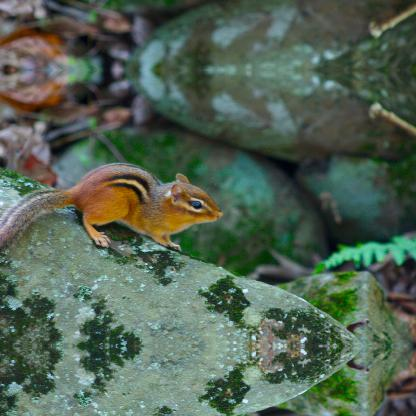Squirrel: (0, 162, 225, 252)
